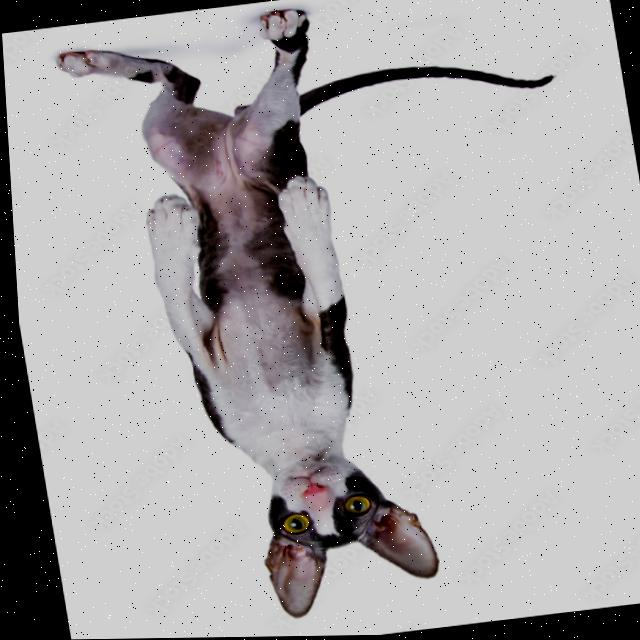Cornish Rex: (38, 0, 640, 640)
